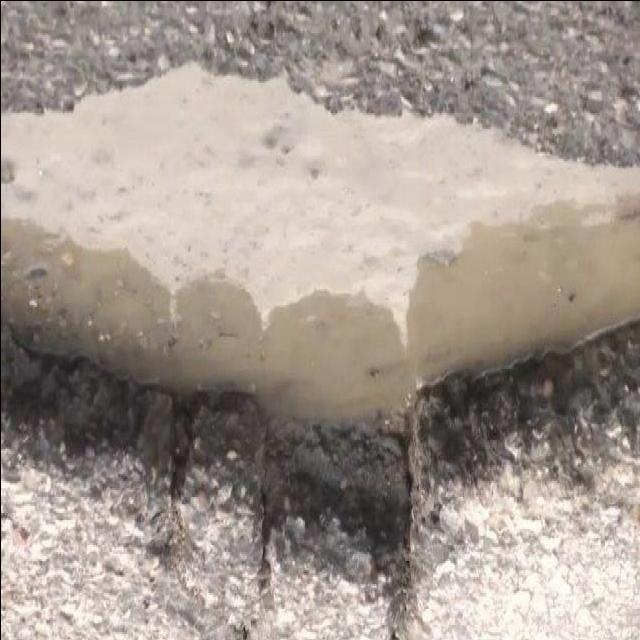lubang: (0, 53, 639, 571)
